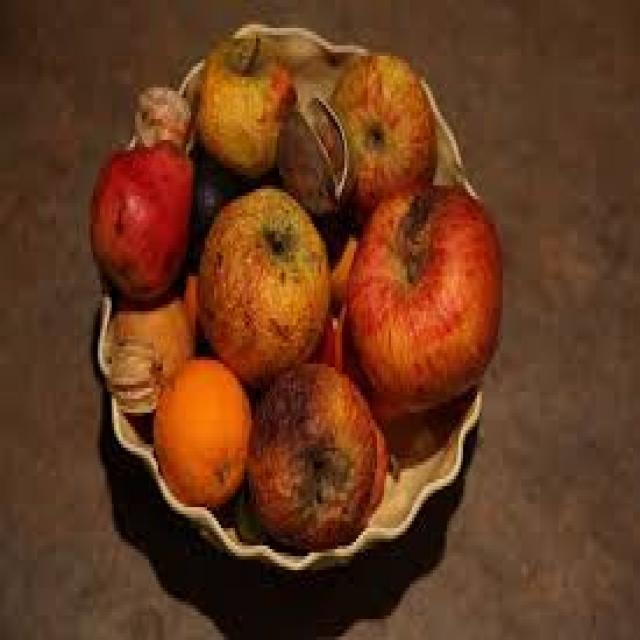organic waste: (349, 178, 500, 410), (193, 182, 326, 388), (244, 357, 375, 552), (298, 304, 386, 521), (328, 45, 438, 214), (86, 136, 191, 294), (149, 353, 247, 507), (191, 35, 298, 175), (103, 290, 200, 413), (186, 144, 272, 262), (272, 91, 347, 213), (128, 77, 198, 154), (233, 486, 265, 542)
